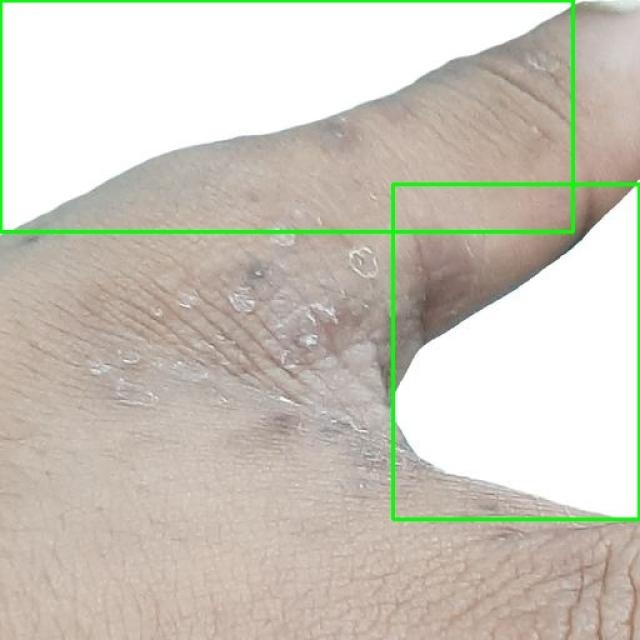Scabies: (0, 0, 572, 231), (392, 184, 639, 519)
